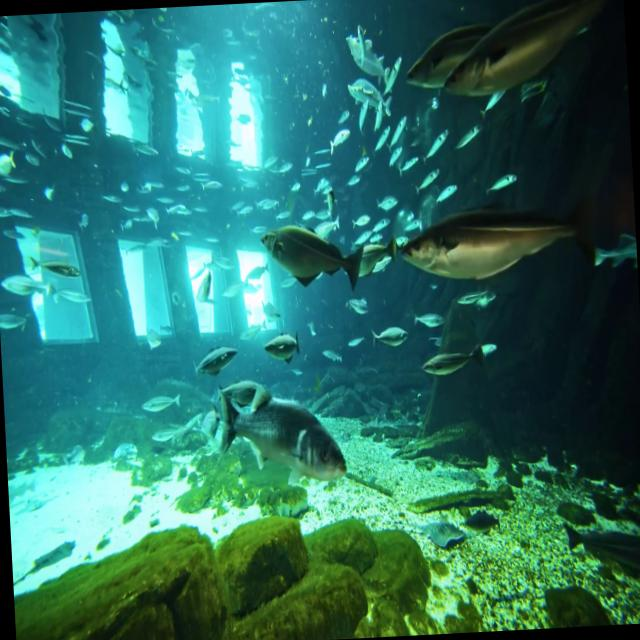fish: (393, 176, 602, 300), (436, 0, 622, 128), (212, 363, 360, 480), (255, 218, 374, 296), (398, 12, 496, 96), (576, 202, 639, 295), (416, 330, 498, 390), (345, 24, 403, 94), (370, 306, 417, 359), (132, 379, 186, 424), (190, 335, 240, 383), (344, 60, 390, 111), (262, 318, 308, 368), (0, 269, 58, 305), (190, 274, 221, 318), (134, 326, 168, 364), (328, 114, 356, 152), (318, 336, 344, 376), (344, 288, 374, 318), (414, 302, 442, 334), (344, 328, 368, 354), (0, 144, 17, 179)
